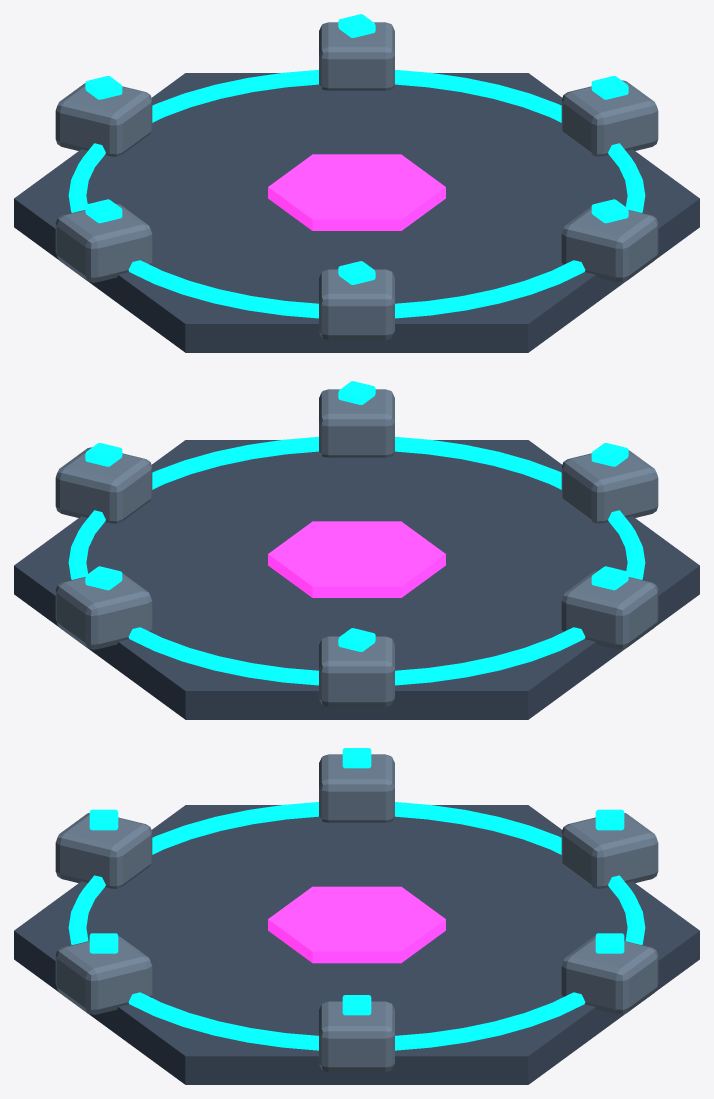
The model's file is Dock.fbx.
3 renders of one model, top to bottom at view 1: azimuth 30°, elevation 25°; view 2: azimuth 150°, elevation 25°; view 3: azimuth 270°, elevation 25°, orthographic.
Parts seen in each view (by area): view 1: Hexagonal dock base, Dock guide ring, Cargo identification, Dock coupling.003, Dock coupling.005, Dock coupling, Dock coupling.002, Dock coupling.004, Dock coupling.001, Dock status light, Dock status light.003, Dock status light.001 (+3 smaller); view 2: Hexagonal dock base, Dock guide ring, Cargo identification, Dock coupling.003, Dock coupling.001, Dock coupling, Dock coupling.004, Dock coupling.002, Dock coupling.005, Dock status light, Dock status light.003, Dock status light.001 (+3 smaller); view 3: Hexagonal dock base, Dock guide ring, Cargo identification, Dock coupling.001, Dock coupling.005, Dock coupling.002, Dock coupling.004, Dock coupling, Dock coupling.003, Dock status light.002, Dock status light.004, Dock status light (+3 smaller).
Part boxes in pixels (x1,y1,x2,y2): Hexagonal dock base: (14, 73, 699, 352); Dock guide ring: (68, 69, 645, 318); Cargo identification: (268, 154, 445, 230); Dock coupling.003: (55, 204, 152, 282); Dock coupling.005: (561, 206, 658, 282); Dock coupling: (561, 80, 658, 156); Dock coupling.002: (55, 83, 152, 156); Dock coupling.004: (319, 269, 394, 340); Dock coupling.001: (319, 22, 394, 90); Dock status light: (591, 76, 628, 99); Dock status light.003: (85, 199, 122, 223); Dock status light.001: (338, 14, 375, 37); Hexagonal dock base: (14, 440, 699, 719); Dock guide ring: (68, 436, 645, 685); Cargo identification: (268, 521, 445, 597); Dock coupling.003: (561, 571, 658, 649); Dock coupling.001: (55, 573, 152, 649); Dock coupling: (55, 447, 152, 523); Dock coupling.004: (561, 450, 658, 523); Dock coupling.002: (319, 636, 394, 707); Dock coupling.005: (319, 389, 394, 457); Dock status light: (85, 443, 122, 466); Dock status light.003: (591, 566, 628, 590); Dock status light.001: (85, 566, 122, 590); Hexagonal dock base: (14, 805, 699, 1084); Dock guide ring: (68, 802, 645, 1050); Cargo identification: (268, 886, 445, 963); Dock coupling.001: (561, 936, 658, 1014); Dock coupling.005: (55, 936, 152, 1014); Dock coupling.002: (561, 813, 658, 888); Dock coupling.004: (55, 813, 152, 888); Dock coupling: (319, 1001, 394, 1072); Dock coupling.003: (319, 754, 394, 822); Dock status light.002: (595, 809, 624, 830); Dock status light.004: (89, 809, 118, 830); Dock status light: (342, 995, 371, 1015).
Bounding box in the file's own units: 104 × 14.4 × 108.
